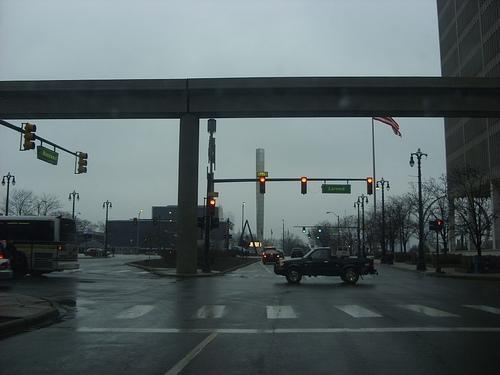bus: (1, 212, 79, 276)
car: (262, 246, 280, 264), (1, 258, 14, 278), (291, 248, 304, 258), (84, 249, 98, 256)
truck: (274, 247, 378, 285)
